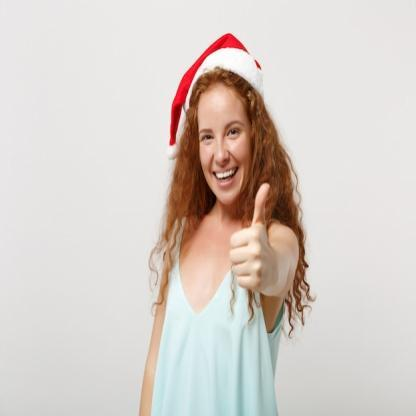thumb_up: (227, 178, 280, 296)
